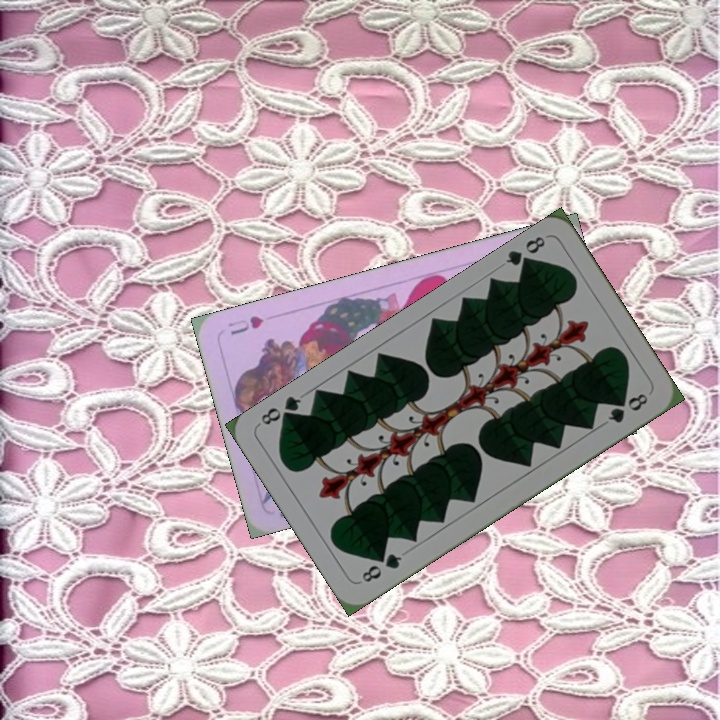G8: (501, 232, 548, 273), (357, 549, 405, 585)
